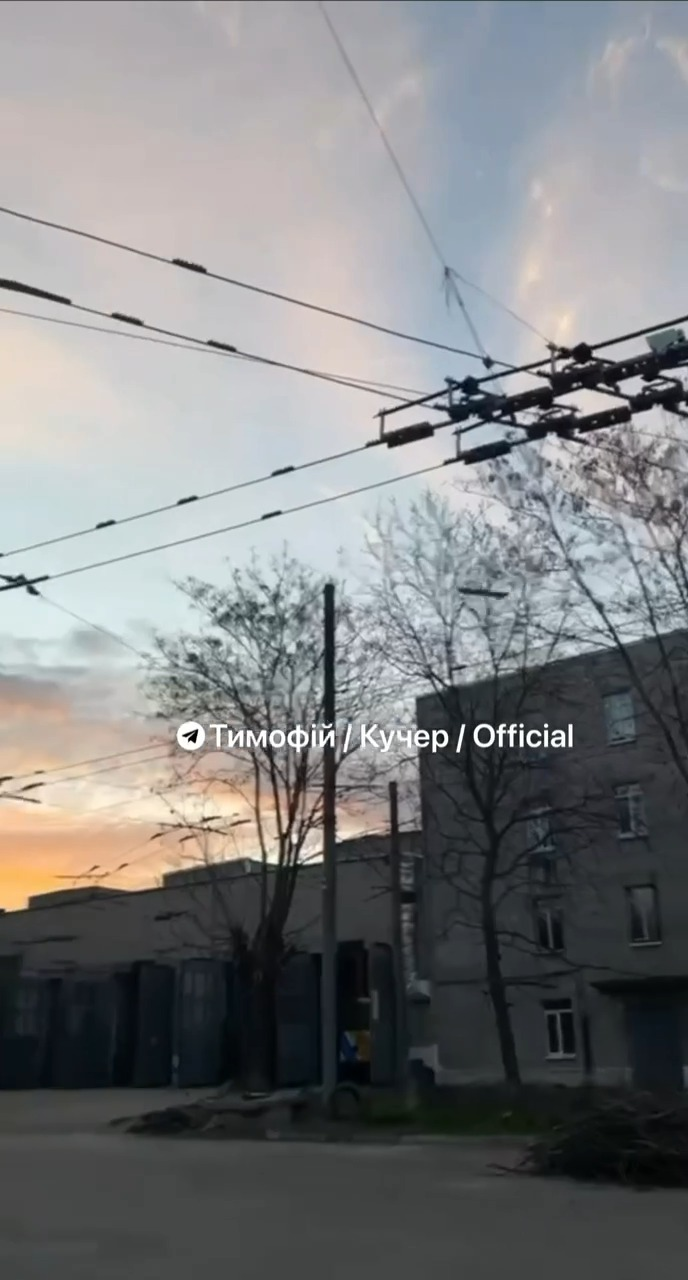shahed: (453, 581, 516, 605)
